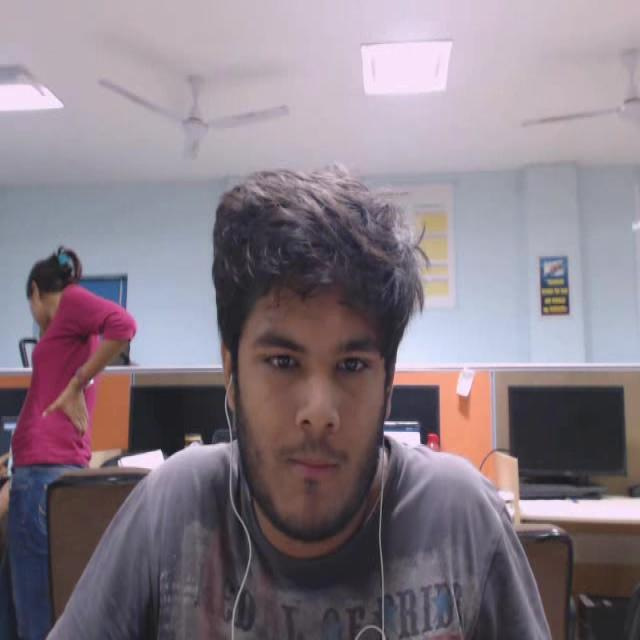Engaged: (196, 136, 472, 601)
